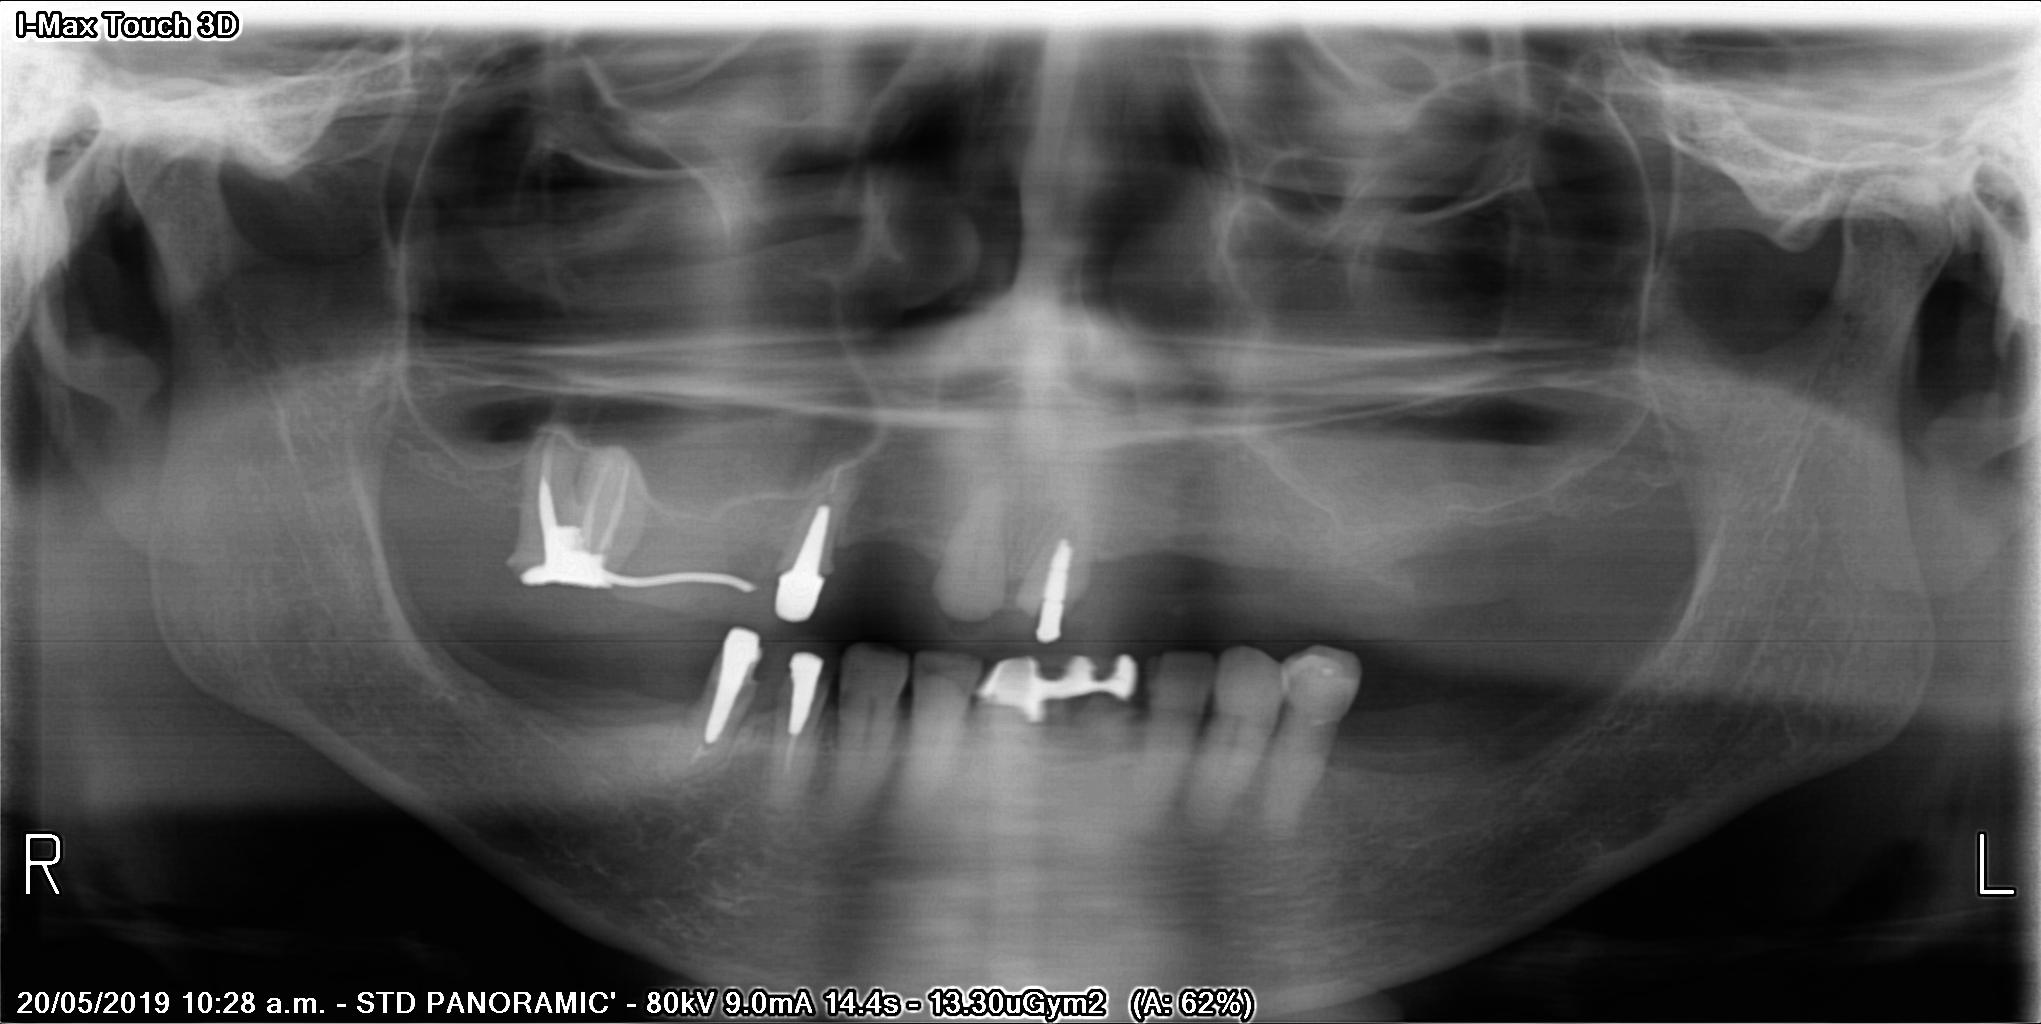Çürük: (761, 482, 847, 626), (684, 622, 773, 754), (516, 508, 627, 597), (1016, 528, 1086, 653), (975, 640, 1056, 747), (1056, 643, 1153, 720), (780, 637, 838, 754)
Çürük Bölgesi: (922, 661, 961, 678)
